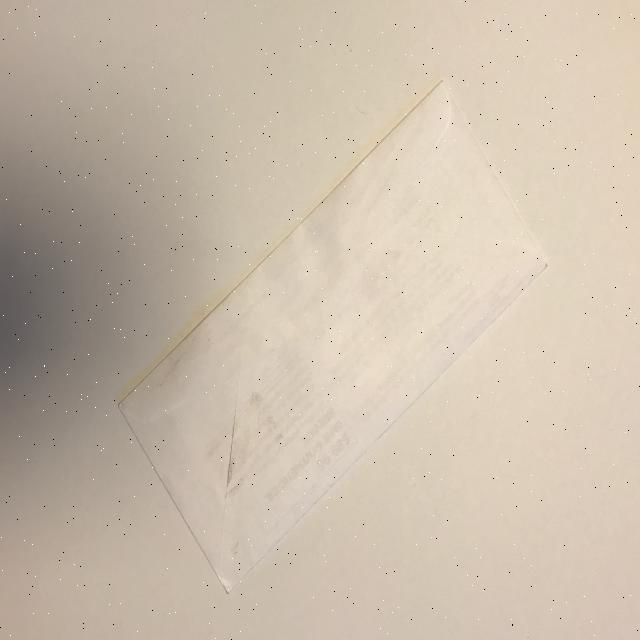paper: (117, 78, 548, 594)
